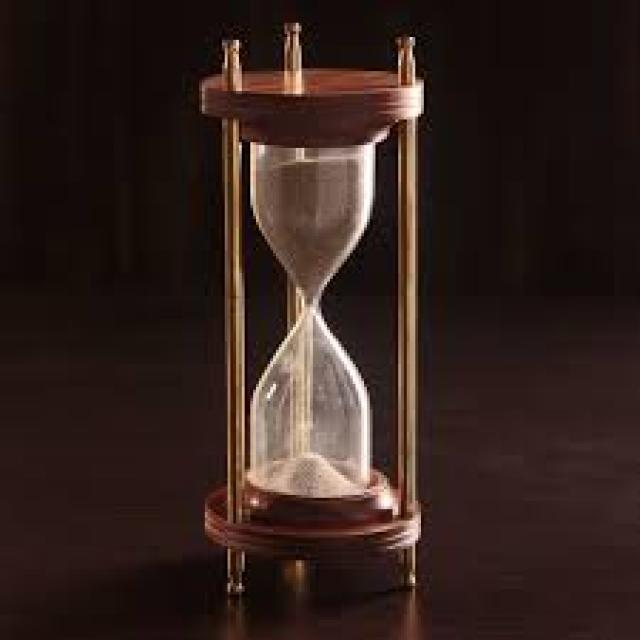clock: (182, 24, 446, 576)
